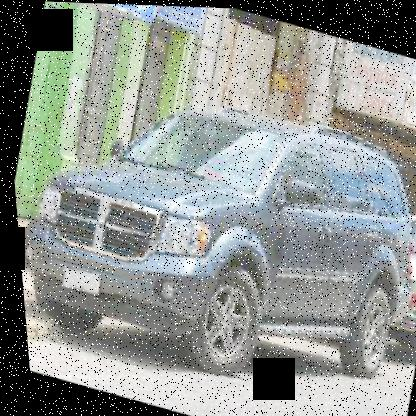not_emergency: (2, 45, 415, 411)
